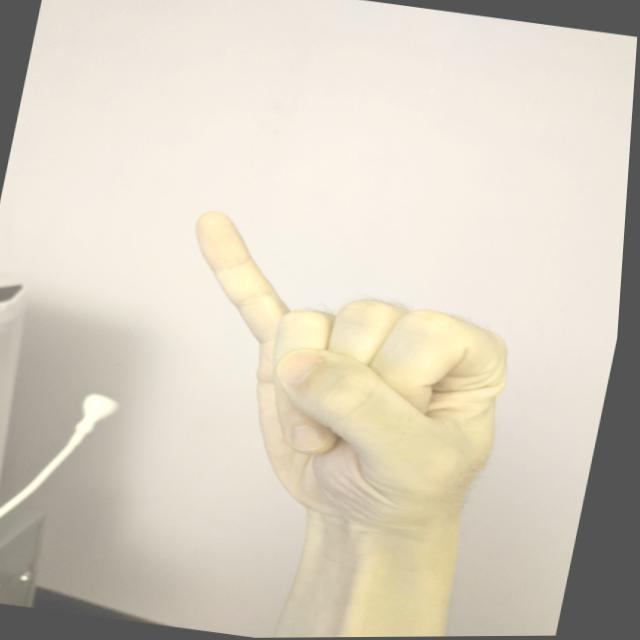I: (137, 201, 554, 550)
